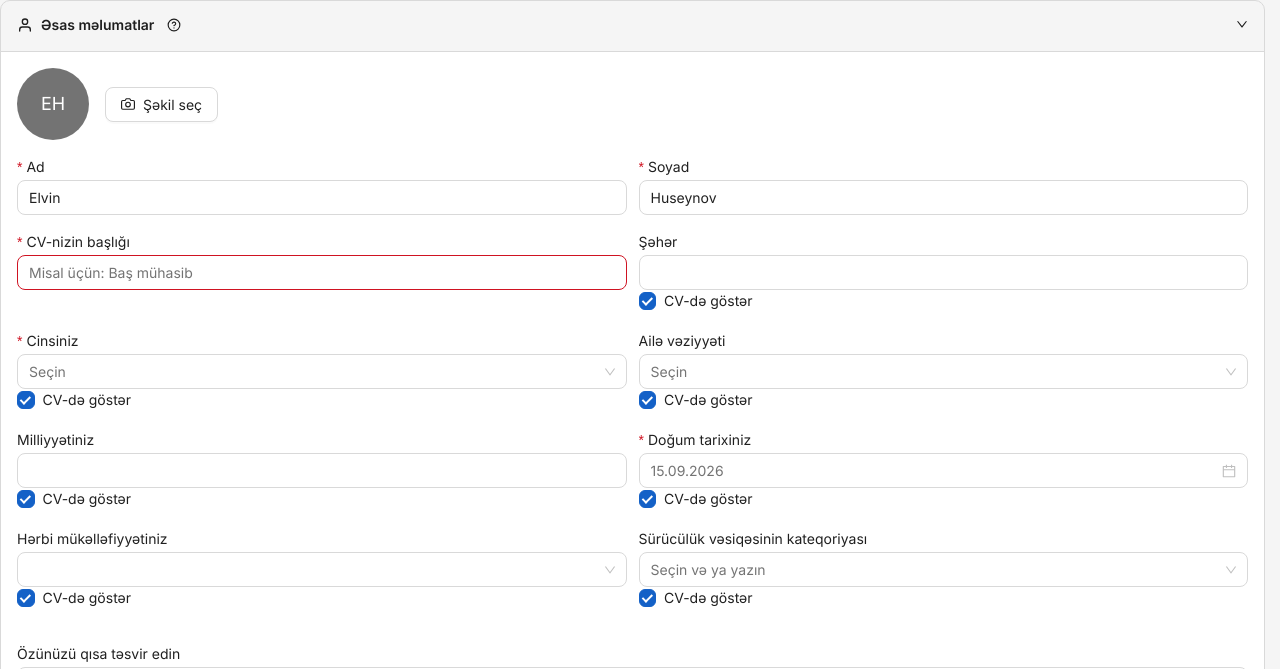
Test: EditorPanel › date of birth entry › opens its panel in the past, not on the current year
Step 1. Click the field with id "generalInfo-dateOfBirth" → click(934, 470), box [650, 460, 1218, 482]
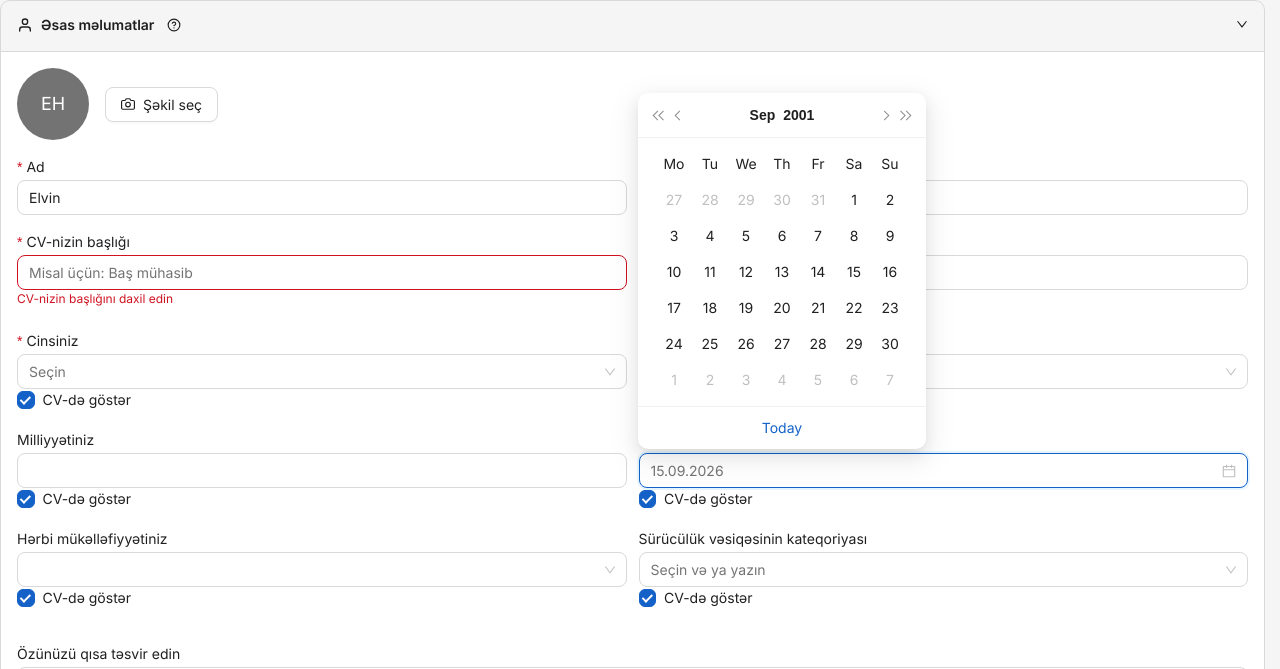
Expected: the element showing "Sep 2001" is shown, [750, 93, 814, 137]
